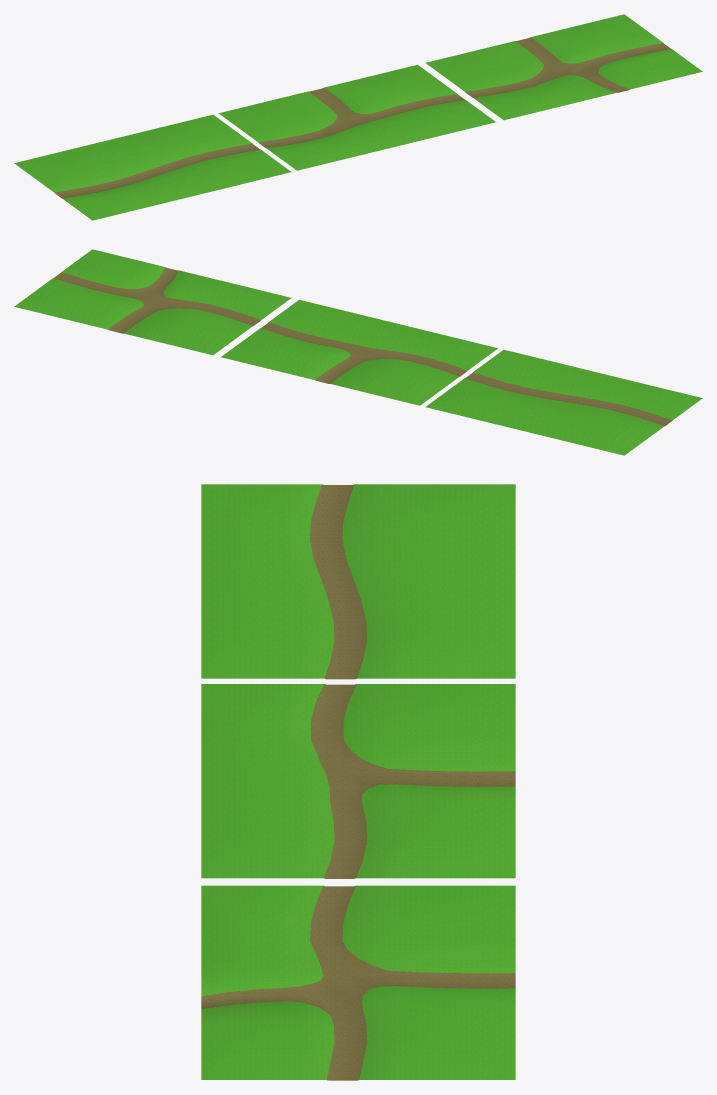
File: BosTiles.fbx
3 views of the same model, one above another, from view 1: azimuth 30°, elevation 25°; view 2: azimuth 150°, elevation 25°; view 3: azimuth 270°, elevation 25° (orthographic). The views are drawn at different scales.
Visible parts, largest first — view 1: 3way, 1way, 2way; view 2: 2way, 3way, 1way; view 3: 1way, 2way, 3way.
Part boxes in pixels (x1=…): 3way: x1=425, y1=14, x2=702, y2=120; 1way: x1=14, y1=114, x2=291, y2=220; 2way: x1=219, y1=64, x2=495, y2=170; 2way: x1=221, y1=299, x2=497, y2=405; 3way: x1=14, y1=249, x2=291, y2=355; 1way: x1=425, y1=349, x2=702, y2=455; 1way: x1=201, y1=484, x2=515, y2=679; 2way: x1=201, y1=684, x2=515, y2=878; 3way: x1=201, y1=885, x2=515, y2=1080.
Bounding box in the file's own units: 45.89 × 0.22 × 10.22.
